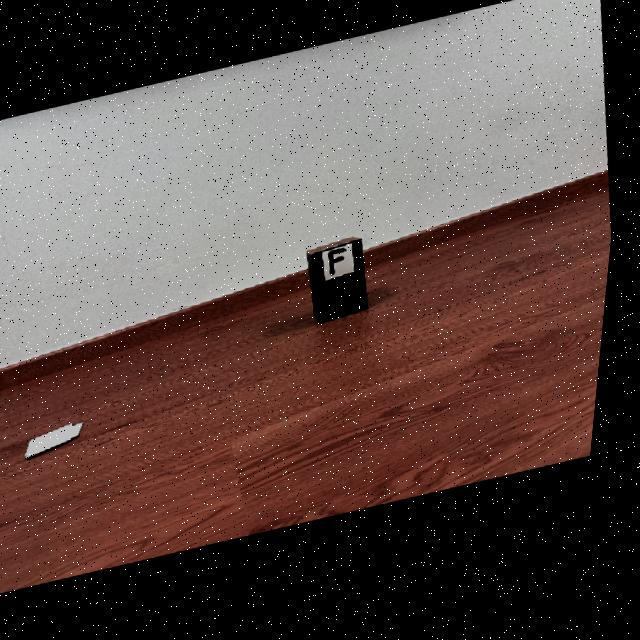F: (335, 256, 351, 283)
